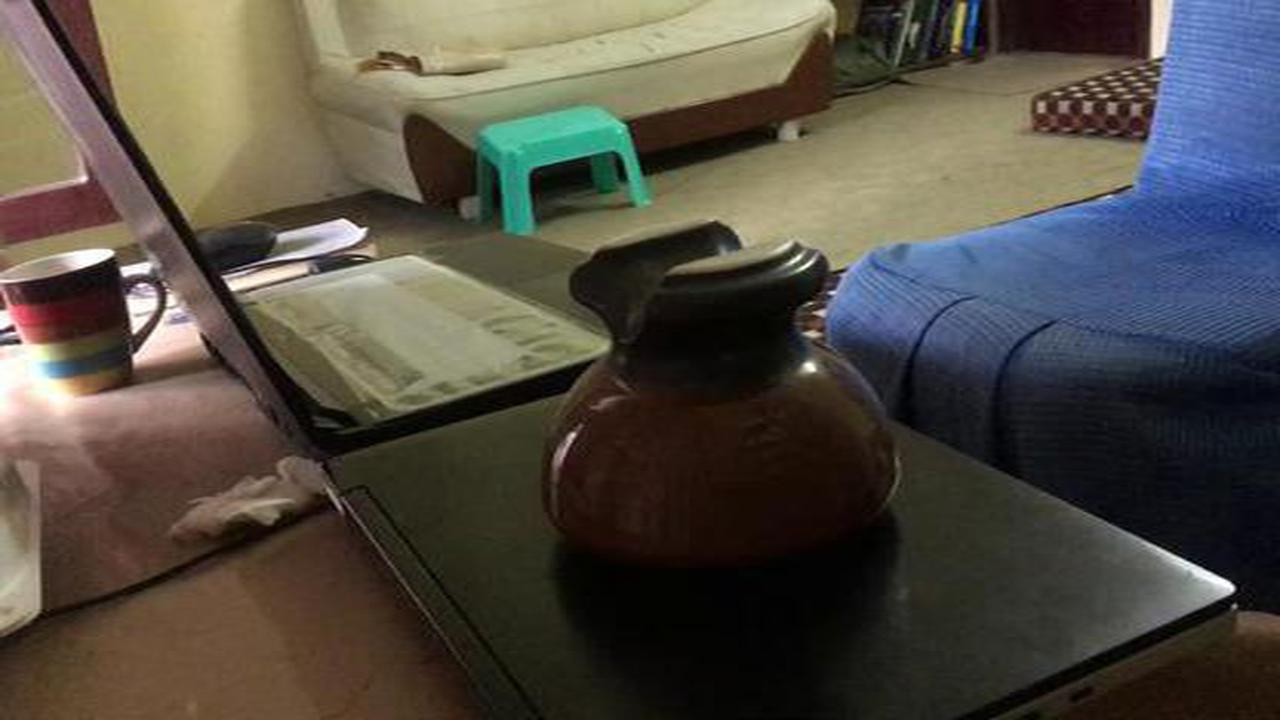insulator_pin: (524, 206, 942, 599)
